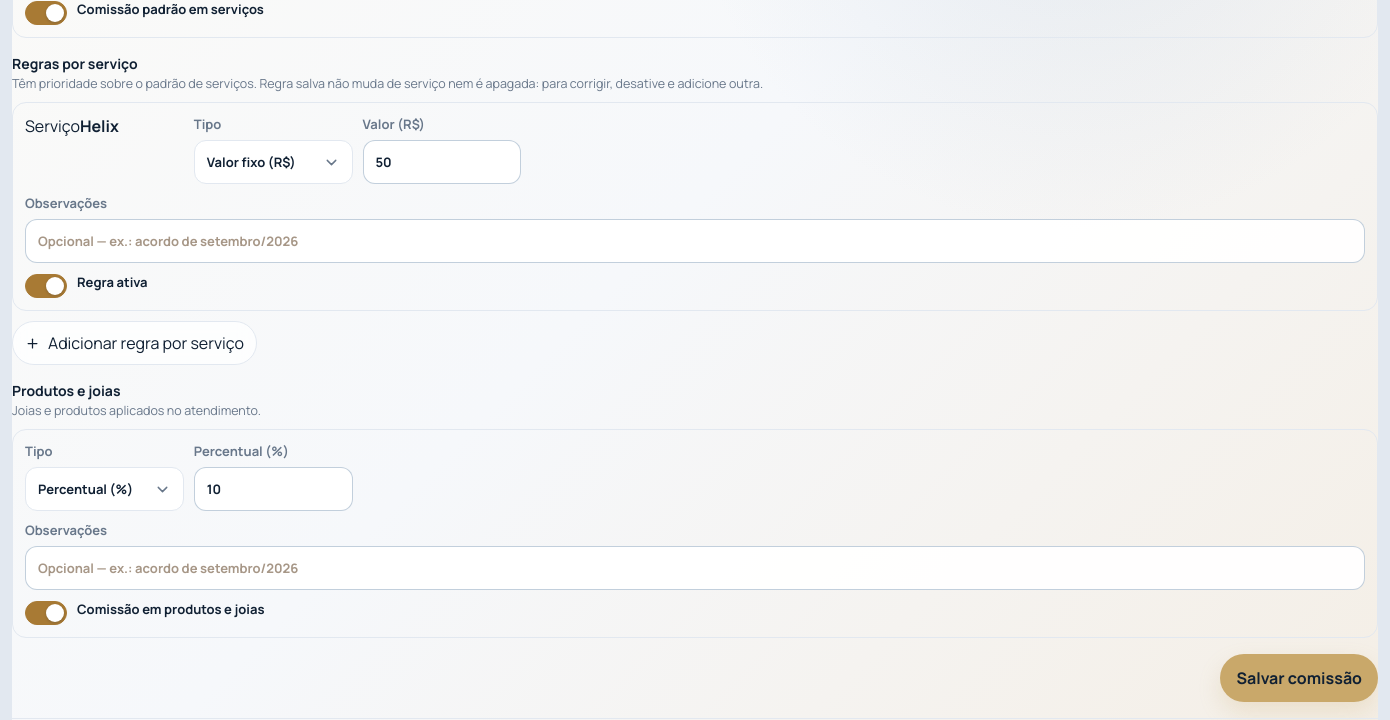
regras de comissão do profissional › mostra o erro do backend quando o PUT é recusado
The image size is (1390, 720).
(page scrolled)
Click the button "Salvar comissão". click: (1299, 678)
box: left=1220, top=654, right=1378, bottom=702
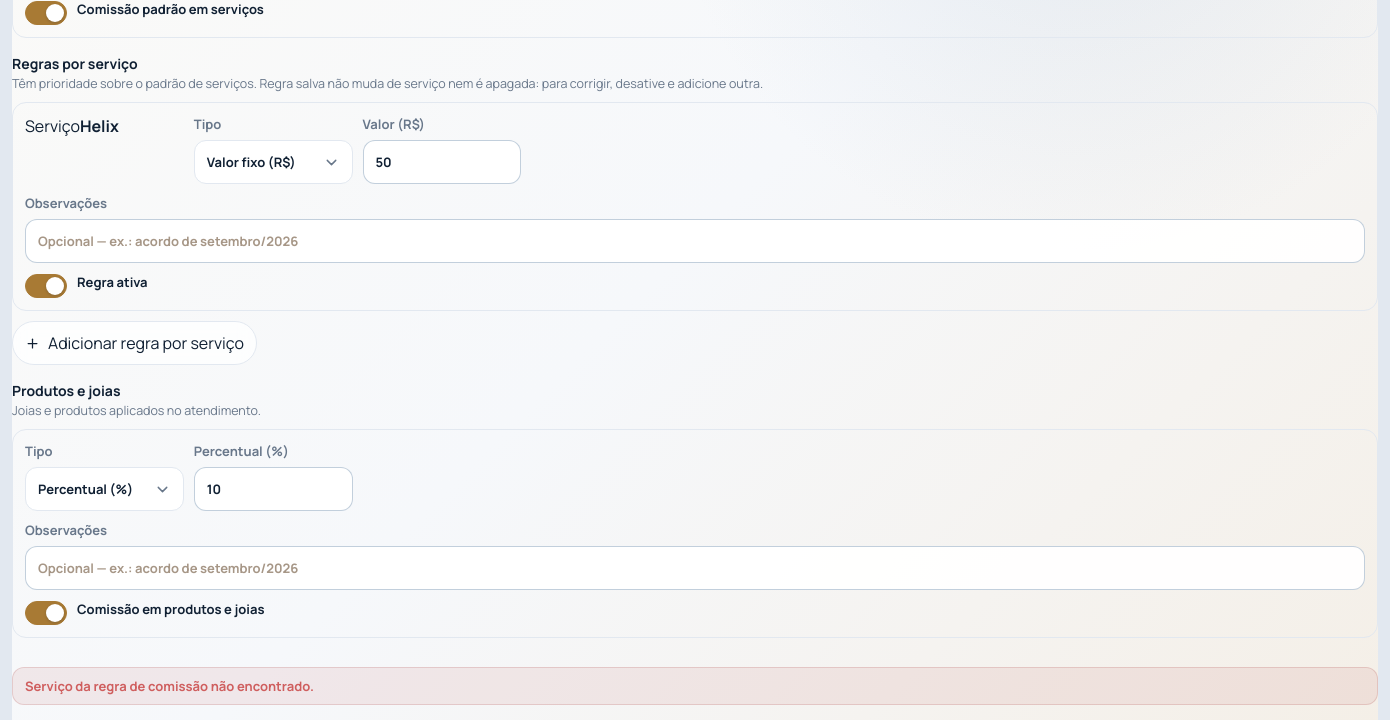
Expected: the message reads "Serviço da regra de comissão não encontrado.", left=25, top=677, right=314, bottom=695
